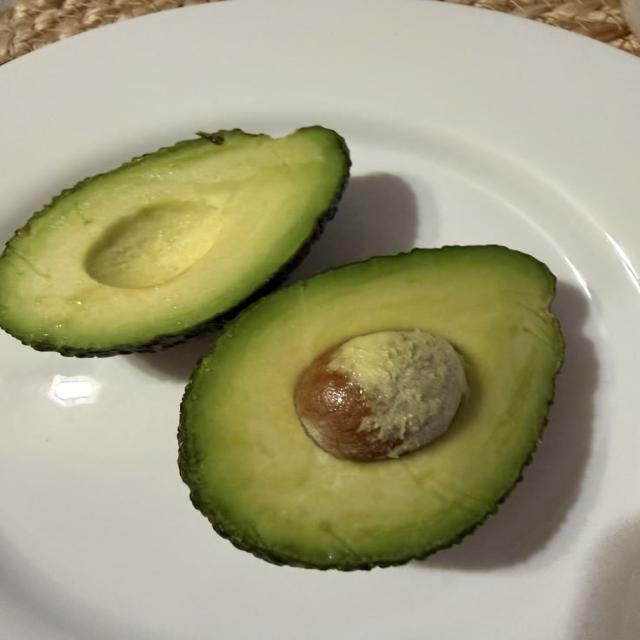avocado: (179, 246, 563, 570), (0, 126, 350, 356)
